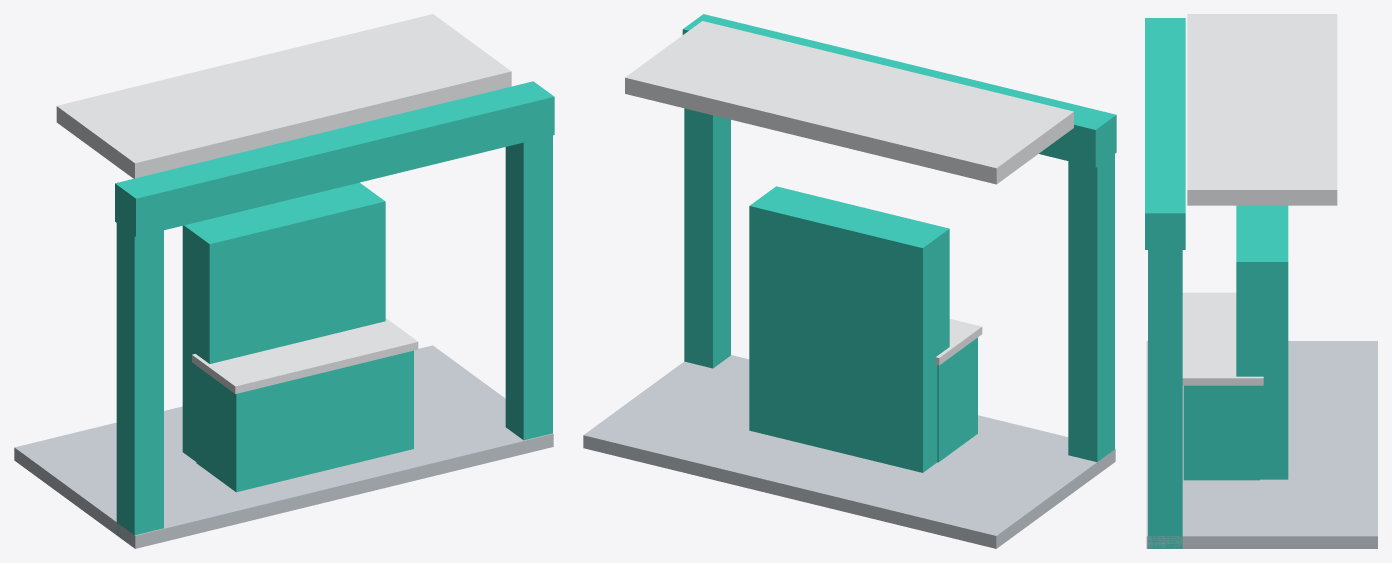
The picture shows the model from 3 angles, left to right: view 1: azimuth 30°, elevation 25°; view 2: azimuth 150°, elevation 25°; view 3: azimuth 270°, elevation 25°; orthographic projection. The views are drawn at different scales.
Visible parts, largest first — view 1: Exhibition Booth Concept; view 2: Exhibition Booth Concept; view 3: Exhibition Booth Concept.
Part boxes in pixels (bbox=[...]): Exhibition Booth Concept: bbox=[14, 14, 554, 548]; Exhibition Booth Concept: bbox=[583, 14, 1116, 548]; Exhibition Booth Concept: bbox=[1145, 14, 1377, 548].
Bounding box in the file's own units: 4 × 3.34 × 2.01.
